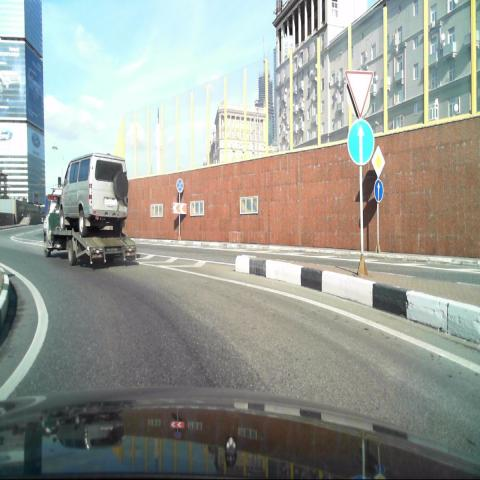2_1: (371, 145, 386, 178)
2_4: (344, 67, 373, 119)
4_1_1: (348, 118, 374, 166), (374, 178, 385, 203)
